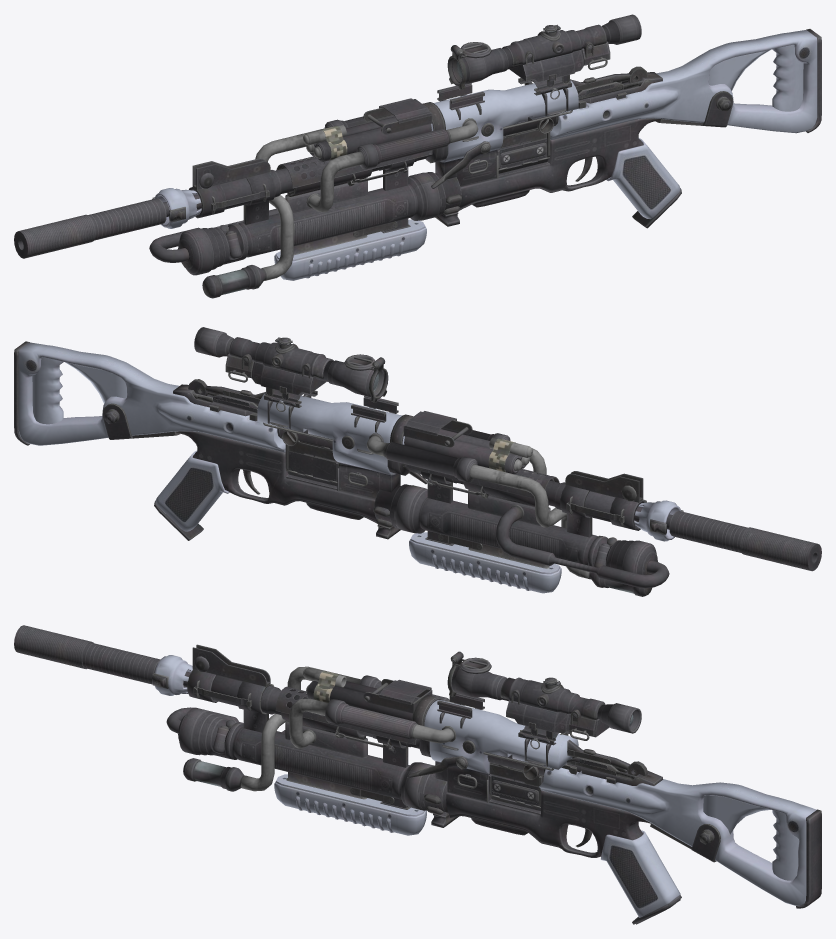
3 views of the same model, one above another, from view 1: azimuth 30°, elevation 25°; view 2: azimuth 150°, elevation 25°; view 3: azimuth 330°, elevation 25° (orthographic).
Visible parts, largest first — view 1: bigGrip_low, cylinder_low, bodyMain_low, pew_low, silencer_low, grips2_low, piperino3_low, piperino2_low, grip_low, frontCyl_low, topCylind_low, cylinderFront3_low (+25 smaller); view 2: bigGrip_low, cylinder_low, bodyMain_low, pew_low, piperino3_low, silencer_low, grips2_low, grip_low, piperino_low, topCylind_low, prsti_low, frontCyl_low (+22 smaller); view 3: bigGrip_low, cylinder_low, bodyMain_low, pew_low, silencer_low, grips2_low, grip_low, piperino2_low, piperino3_low, topCylind_low, frontCyl_low, cylinderFront3_low (+22 smaller).
Part boxes in pixels (x1=…): bigGrip_low: x1=550, y1=30, x2=817, y2=139; cylinder_low: x1=238, y1=172, x2=461, y2=257; bodyMain_low: x1=431, y1=80, x2=578, y2=186; pew_low: x1=459, y1=118, x2=659, y2=210; silencer_low: x1=14, y1=194, x2=201, y2=258; grips2_low: x1=274, y1=219, x2=426, y2=280; piperino3_low: x1=202, y1=115, x2=394, y2=298; piperino2_low: x1=306, y1=118, x2=478, y2=212; grip_low: x1=606, y1=138, x2=680, y2=219; frontCyl_low: x1=178, y1=223, x2=248, y2=275; topCylind_low: x1=502, y1=24, x2=606, y2=66; cylinderFront3_low: x1=281, y1=157, x2=372, y2=213; bigGrip_low: x1=18, y1=342, x2=285, y2=452; cylinder_low: x1=374, y1=484, x2=597, y2=565; bodyMain_low: x1=257, y1=393, x2=404, y2=499; pew_low: x1=176, y1=431, x2=376, y2=523; piperino3_low: x1=366, y1=433, x2=651, y2=596; silencer_low: x1=634, y1=507, x2=821, y2=571; grips2_low: x1=409, y1=532, x2=561, y2=593; grip_low: x1=155, y1=450, x2=229, y2=531; piperino_low: x1=495, y1=504, x2=669, y2=588; topCylind_low: x1=229, y1=337, x2=333, y2=378; prsti_low: x1=32, y1=357, x2=63, y2=424; frontCyl_low: x1=587, y1=535, x2=657, y2=587; bigGrip_low: x1=539, y1=764, x2=816, y2=905; cylinder_low: x1=230, y1=724, x2=448, y2=812; bodyMain_low: x1=424, y1=700, x2=578, y2=802; pew_low: x1=446, y1=790, x2=650, y2=857; silencer_low: x1=14, y1=625, x2=190, y2=686; grips2_low: x1=274, y1=774, x2=426, y2=835; grip_low: x1=601, y1=830, x2=680, y2=917; piperino2_low: x1=289, y1=698, x2=456, y2=748; piperino3_low: x1=183, y1=666, x2=464, y2=791; topCylind_low: x1=500, y1=677, x2=605, y2=719; frontCyl_low: x1=178, y1=707, x2=243, y2=759; cylinderFront3_low: x1=280, y1=689, x2=367, y2=757.
Bounding box in the file's own units: 970 × 258 × 94.12.
1 material, 1 textured.
